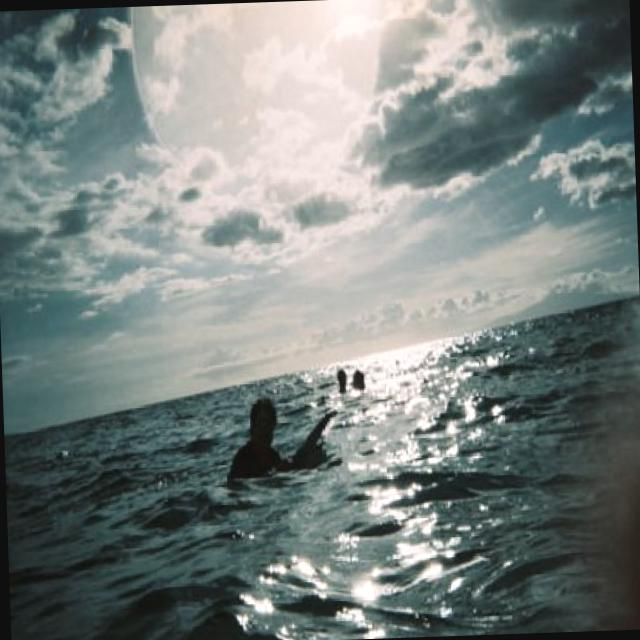Person: (224, 386, 296, 493), (333, 359, 348, 392)
